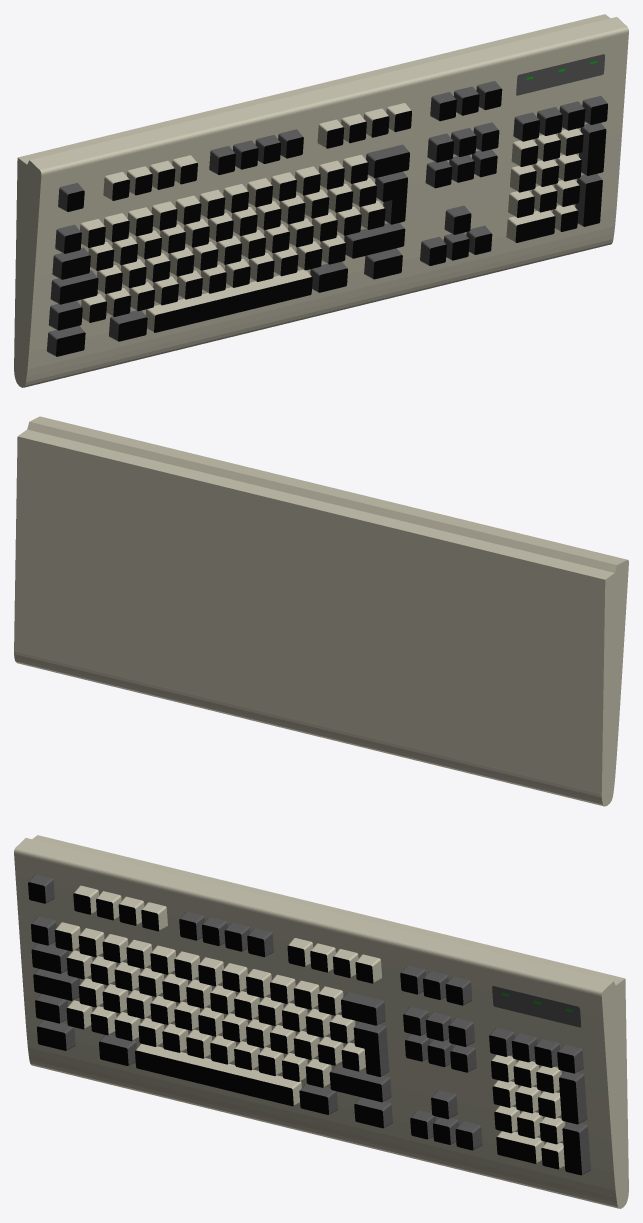
3 views of the same model, one above another, from view 1: azimuth 30°, elevation 25°; view 2: azimuth 150°, elevation 25°; view 3: azimuth 330°, elevation 25° (orthographic).
Parts seen in each view (by area): view 1: keyboard; view 2: keyboard; view 3: keyboard.
Boxes of the visible parts, <box> form: keyboard: <box>14,14,628,387</box>; keyboard: <box>14,416,628,806</box>; keyboard: <box>14,835,628,1208</box>.
Bounding box in the file's own units: 16.67 × 6.33 × 1.65.
